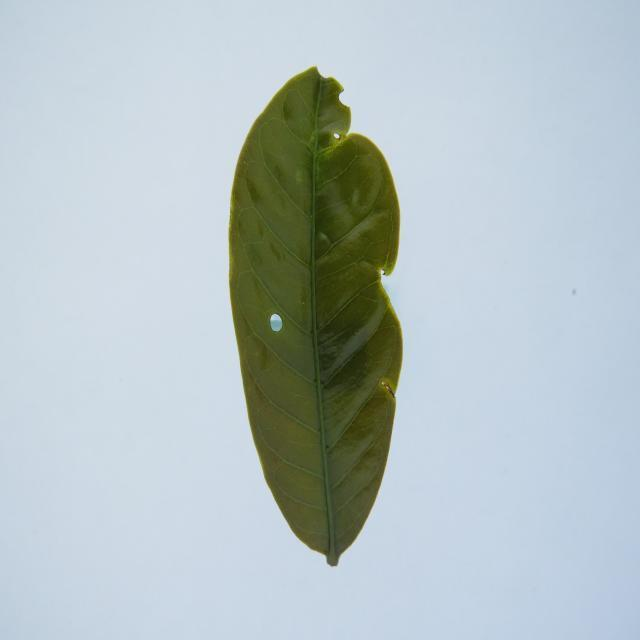DeficienciaNutricional-Boro: (229, 68, 402, 565)
